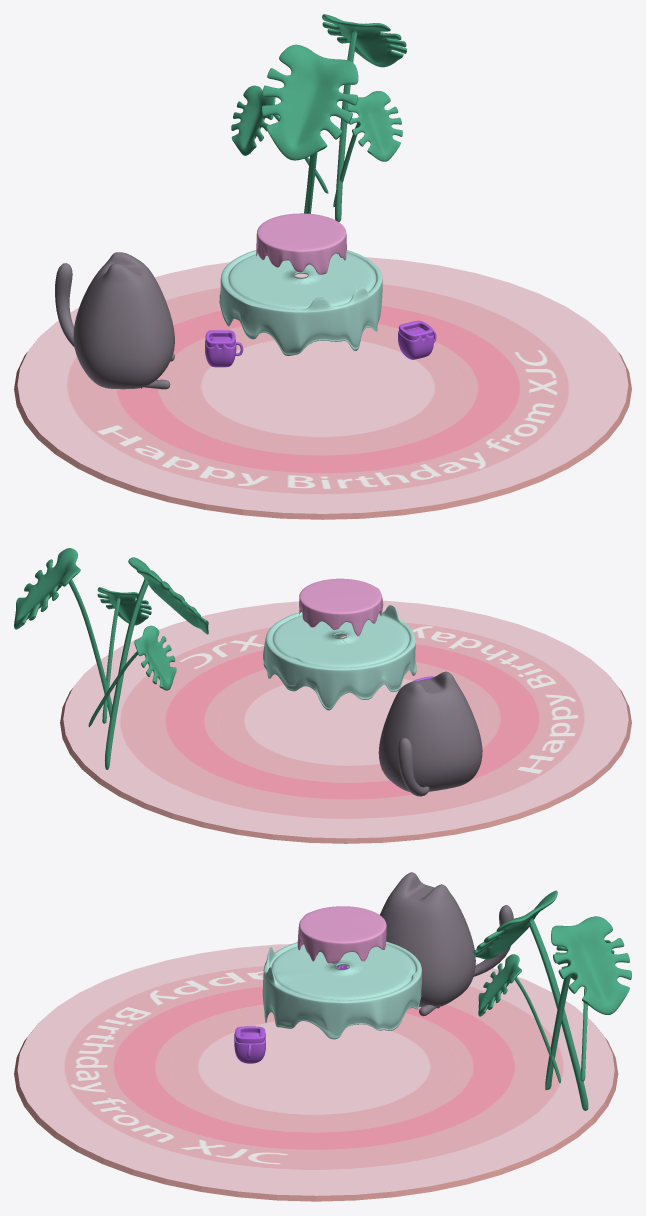
3 views of the same model, one above another, from view 1: azimuth 30°, elevation 25°; view 2: azimuth 150°, elevation 25°; view 3: azimuth 270°, elevation 25° (orthographic). The views are drawn at different scales.
Parts seen in each view (by area): view 1: ground, n, leaf1; view 2: ground, n, leaf1; view 3: ground, n, leaf1.
Boxes of the visible parts, <box> form: ground: <box>14,257,631,519</box>; n: <box>55,213,436,389</box>; leaf1: <box>231,14,406,221</box>; ground: <box>60,600,631,843</box>; n: <box>263,578,482,796</box>; leaf1: <box>14,548,208,769</box>; ground: <box>14,944,618,1201</box>; n: <box>234,872,513,1063</box>; leaf1: <box>473,890,631,1110</box>.
Size of the model in its own units: 311 by 133 by 318.
7 materials, 1 textured.
